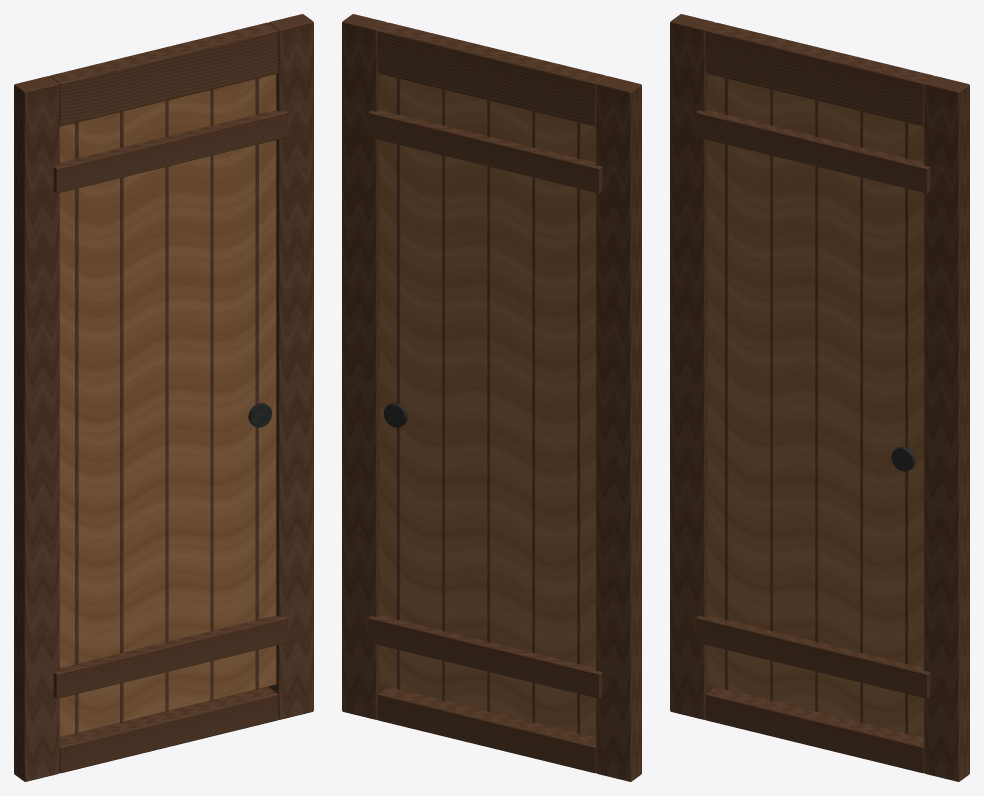
Rendered from door_wood.glb.
The picture shows the model from 3 angles, left to right: view 1: azimuth 30°, elevation 25°; view 2: azimuth 150°, elevation 25°; view 3: azimuth 330°, elevation 25°; orthographic projection.
Parts seen in each view (by area): view 1: door_wood; view 2: door_wood; view 3: door_wood.
Boxes of the visible parts, x1,y1,x2,y2 form: door_wood: (14, 14, 313, 781); door_wood: (342, 14, 641, 781); door_wood: (670, 14, 969, 781).
Bounding box in the file's own units: 0.9 × 2.05 × 0.09.
3 materials, 3 textured.
